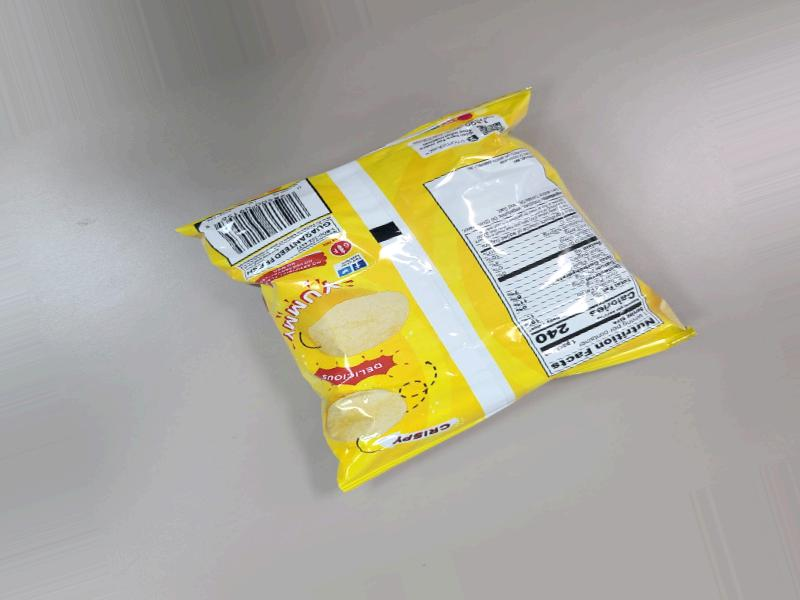lays: (270, 77, 733, 495)
